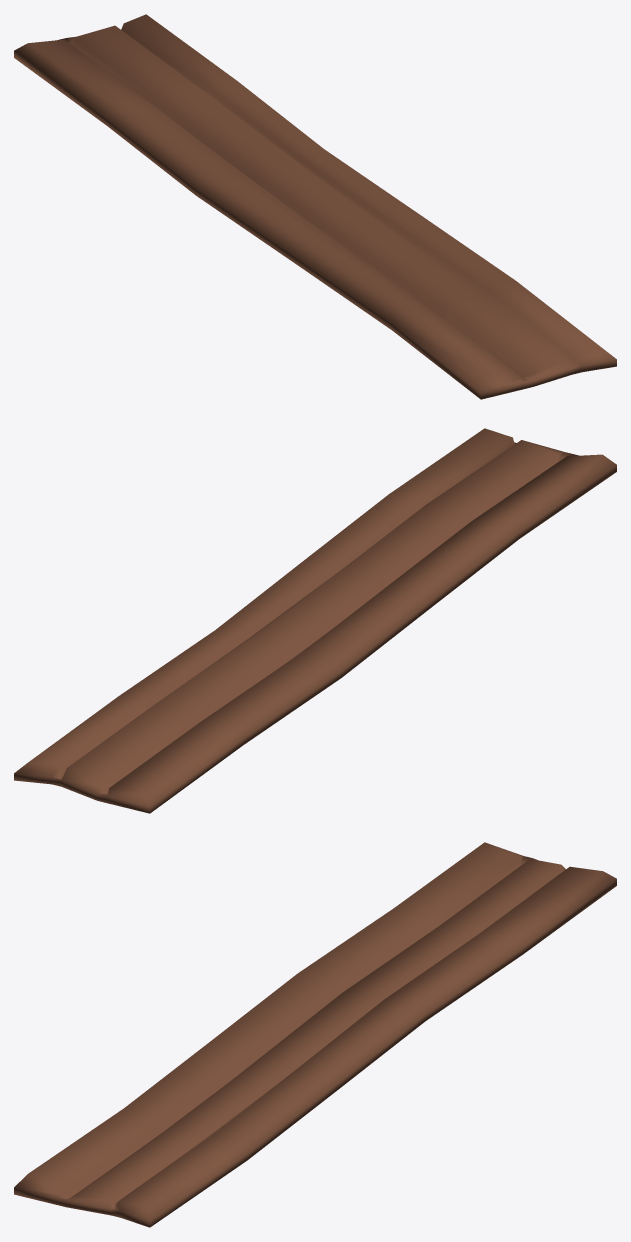
File: planche.fbx
3 views of the same model, one above another, from view 1: azimuth 30°, elevation 25°; view 2: azimuth 150°, elevation 25°; view 3: azimuth 330°, elevation 25° (orthographic).
Visible parts, largest first — view 1: Cube; view 2: Cube; view 3: Cube.
Boxes of the visible parts, x1=… form: Cube: x1=14, y1=14, x2=616, y2=399; Cube: x1=14, y1=428, x2=616, y2=813; Cube: x1=14, y1=842, x2=616, y2=1227.
Size of the model in its own units: 127 by 16.01 by 708.
